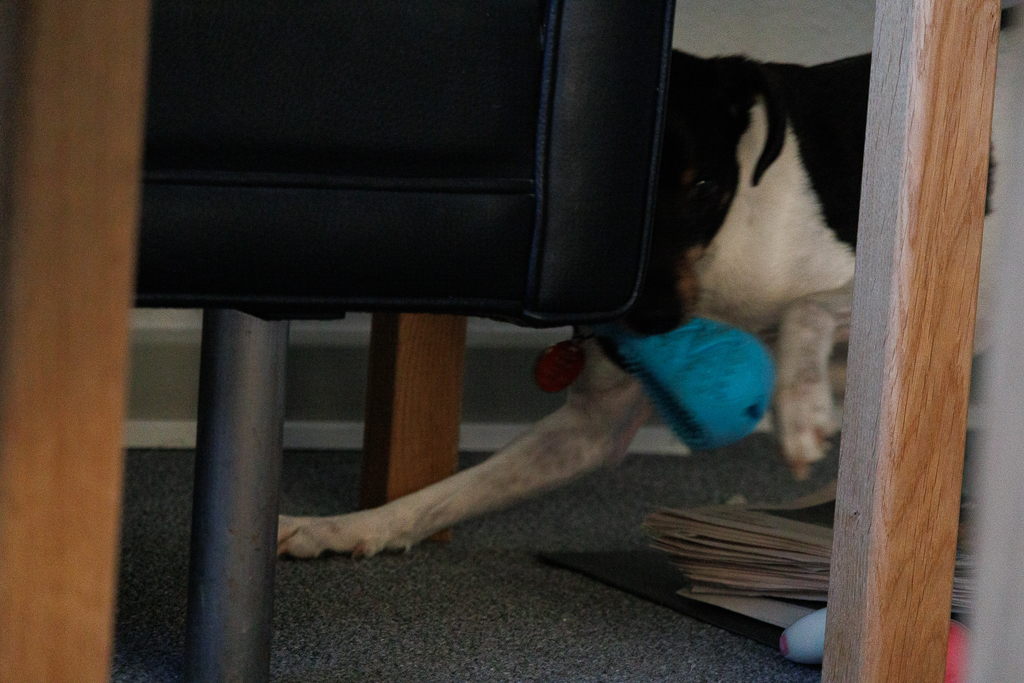Dog: (249, 0, 1024, 568)
